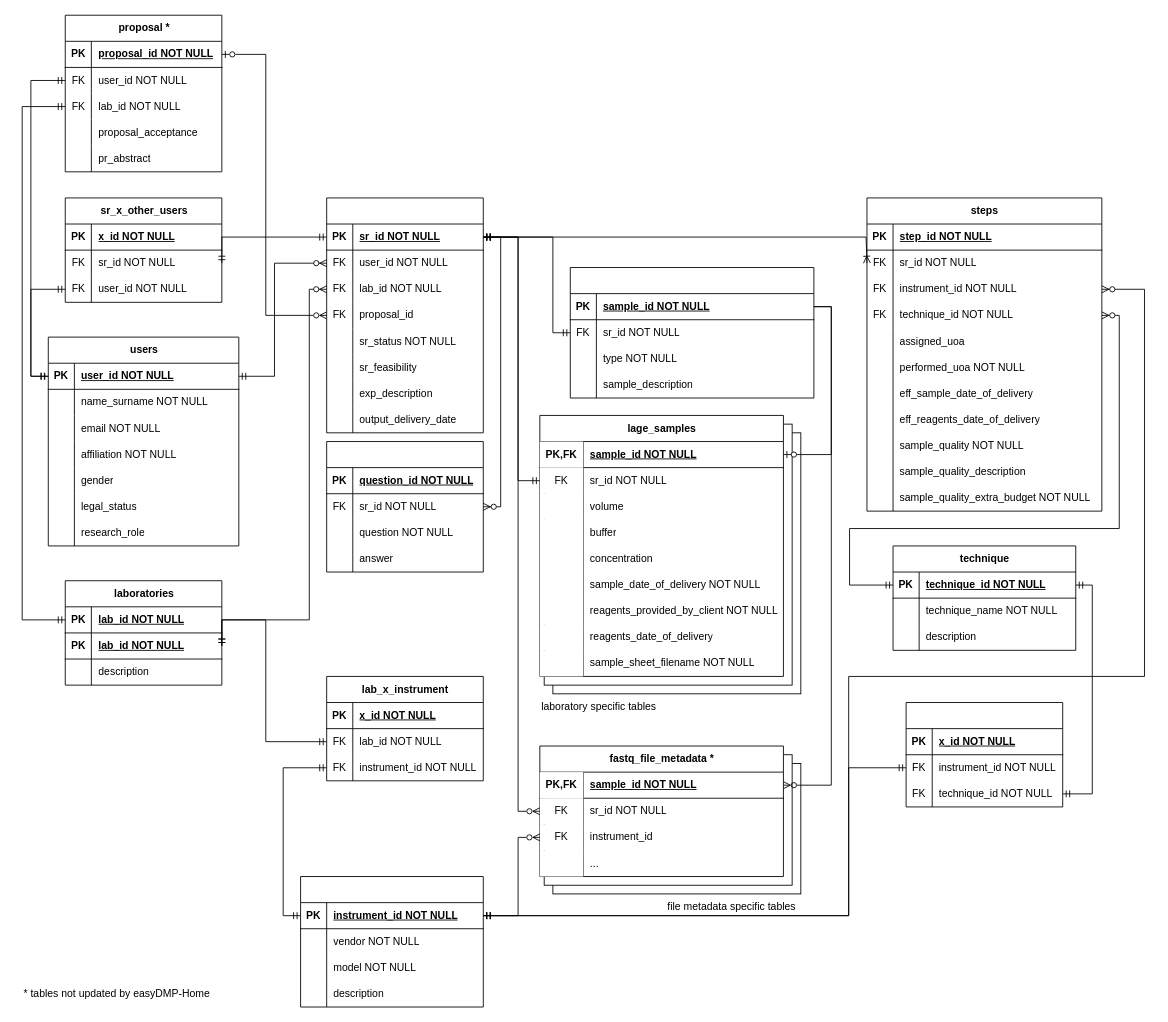
Some shapes in this 1168 by 1022 pixel diagram are drawn without their labels. Each missing label, with the box of its shape:
instrument_x_technique: (905, 702, 1063, 807)
instruments: (300, 876, 483, 1007)
questions: (326, 441, 483, 572)
samples: (569, 267, 814, 398)
service_requests: (326, 197, 483, 433)
